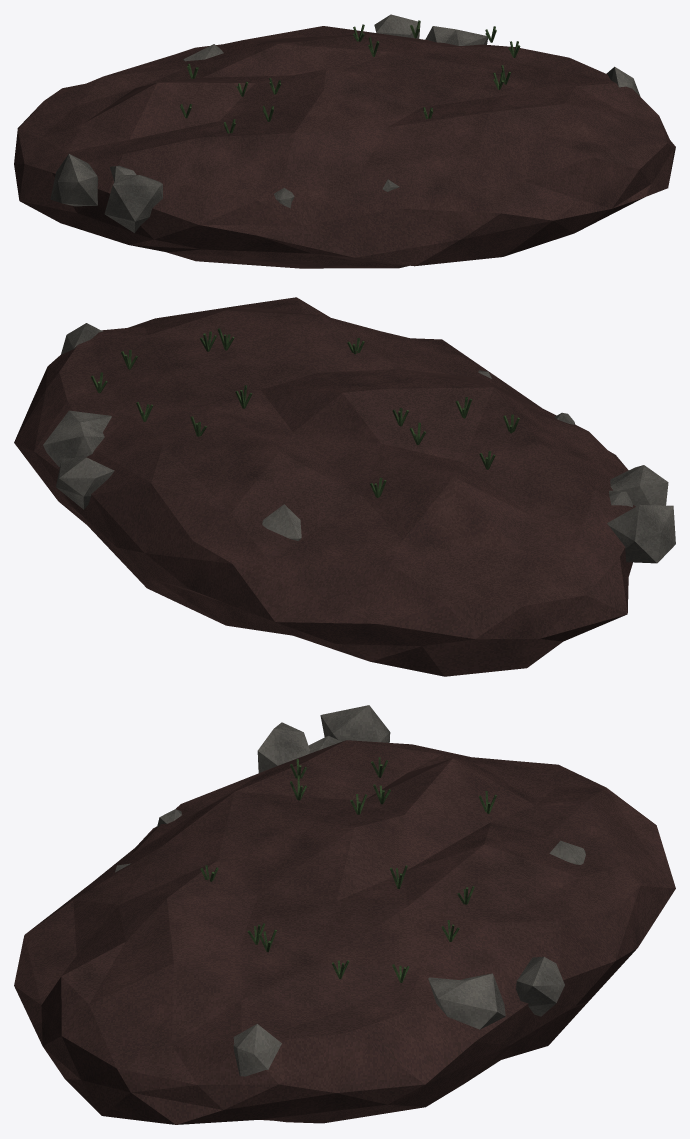
The model's file is island_base.glb.
The picture shows the model from 3 angles, top to bottom: view 1: azimuth 30°, elevation 25°; view 2: azimuth 150°, elevation 25°; view 3: azimuth 270°, elevation 25°; orthographic projection. The views are drawn at different scales.
Parts seen in each view (by area): view 1: island_base; view 2: island_base; view 3: island_base.
Part boxes in pixels (x1,y1,x2,y2): island_base: (14, 14, 675, 268); island_base: (14, 297, 675, 676); island_base: (14, 705, 675, 1124).
Size of what is drawn, in the model's own units: 15.11 by 4.24 by 12.24.
3 materials, 3 textured.
